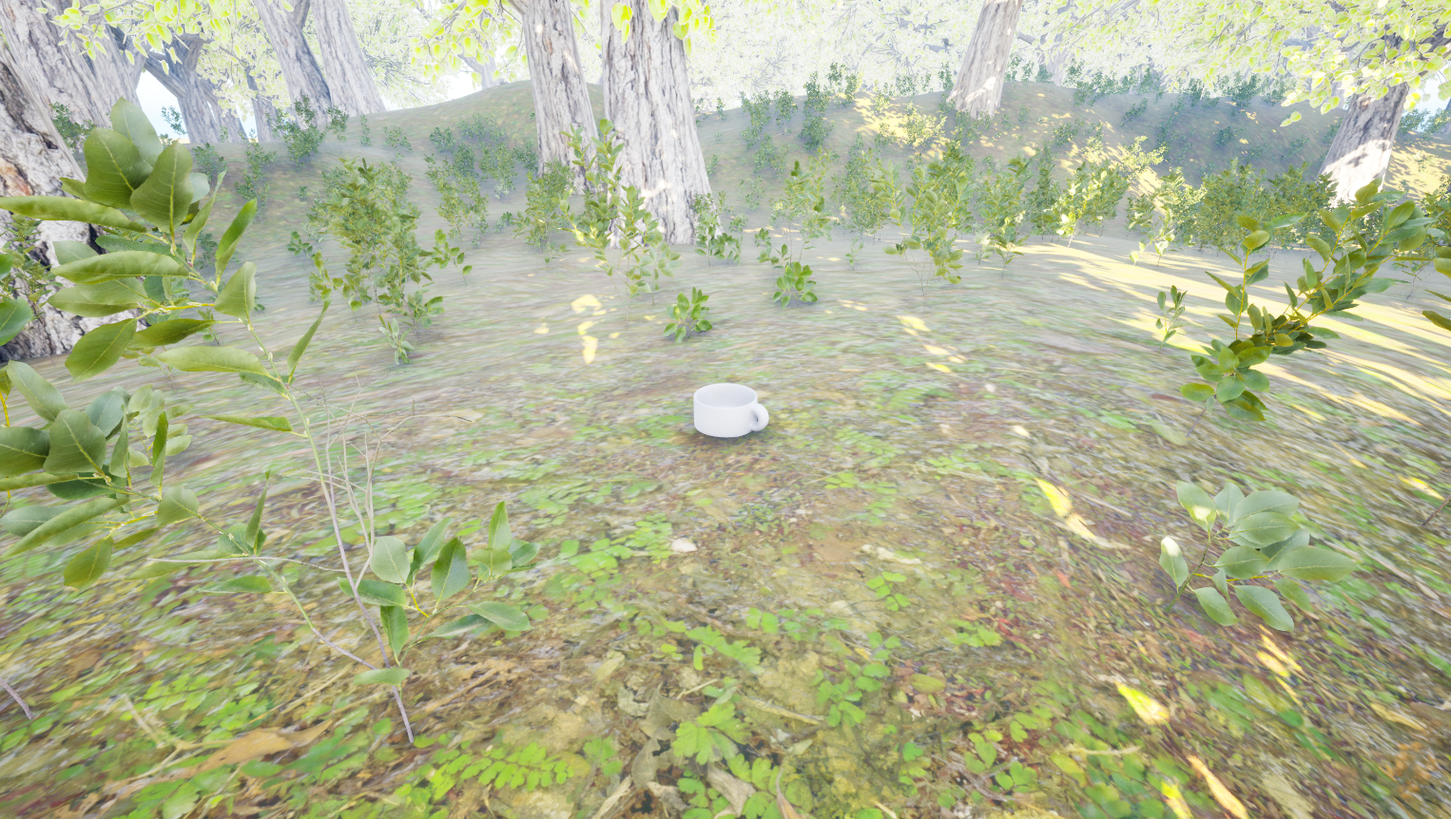Teacup: (684, 379, 774, 448)
